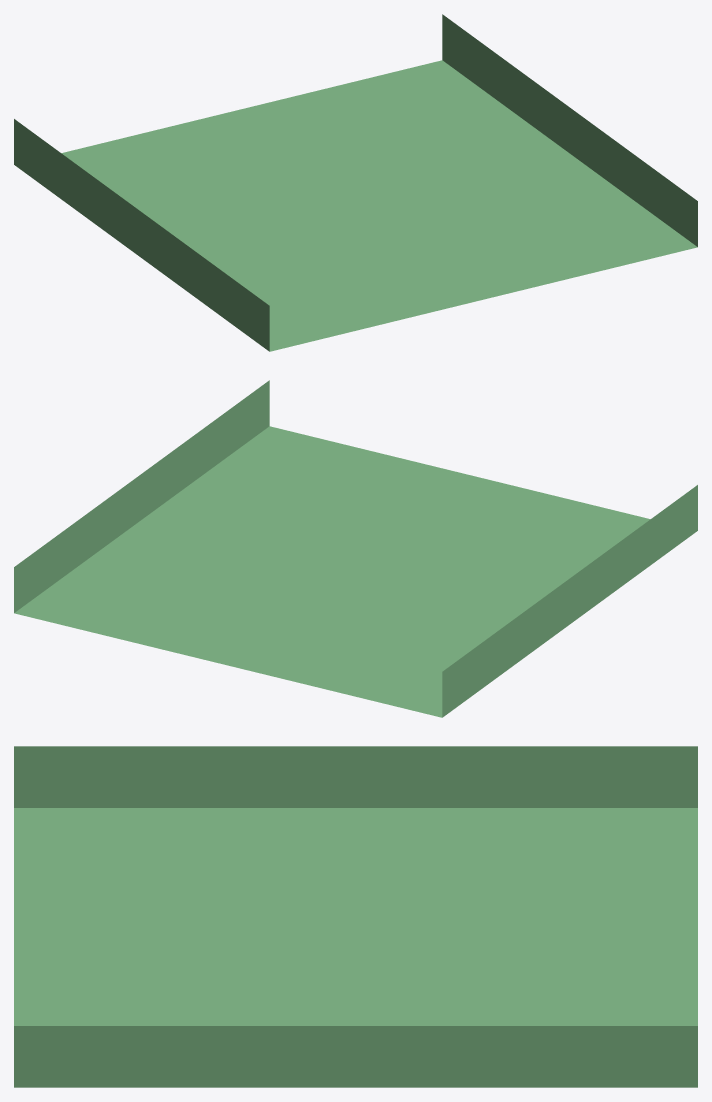
Rendered from Hallway_I_16_A_COL.fbx.
3 renders of one model, top to bottom at view 1: azimuth 30°, elevation 25°; view 2: azimuth 150°, elevation 25°; view 3: azimuth 270°, elevation 25°, orthographic. The views are drawn at different scales.
Visible parts, largest first — view 1: Hallway_I_16_A_COL; view 2: Hallway_I_16_A_COL; view 3: Hallway_I_16_A_COL.
Part boxes in pixels (left/top/right/bottom): Hallway_I_16_A_COL: left=14, top=14, right=697, bottom=351; Hallway_I_16_A_COL: left=14, top=380, right=697, bottom=717; Hallway_I_16_A_COL: left=14, top=746, right=697, bottom=1087.
Size of the model in its own units: 1548 by 159 by 1600.
